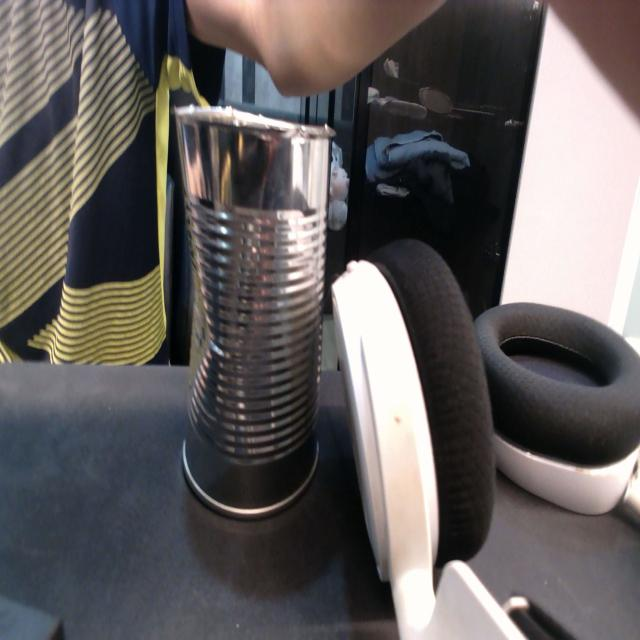metal: (167, 83, 332, 520)
